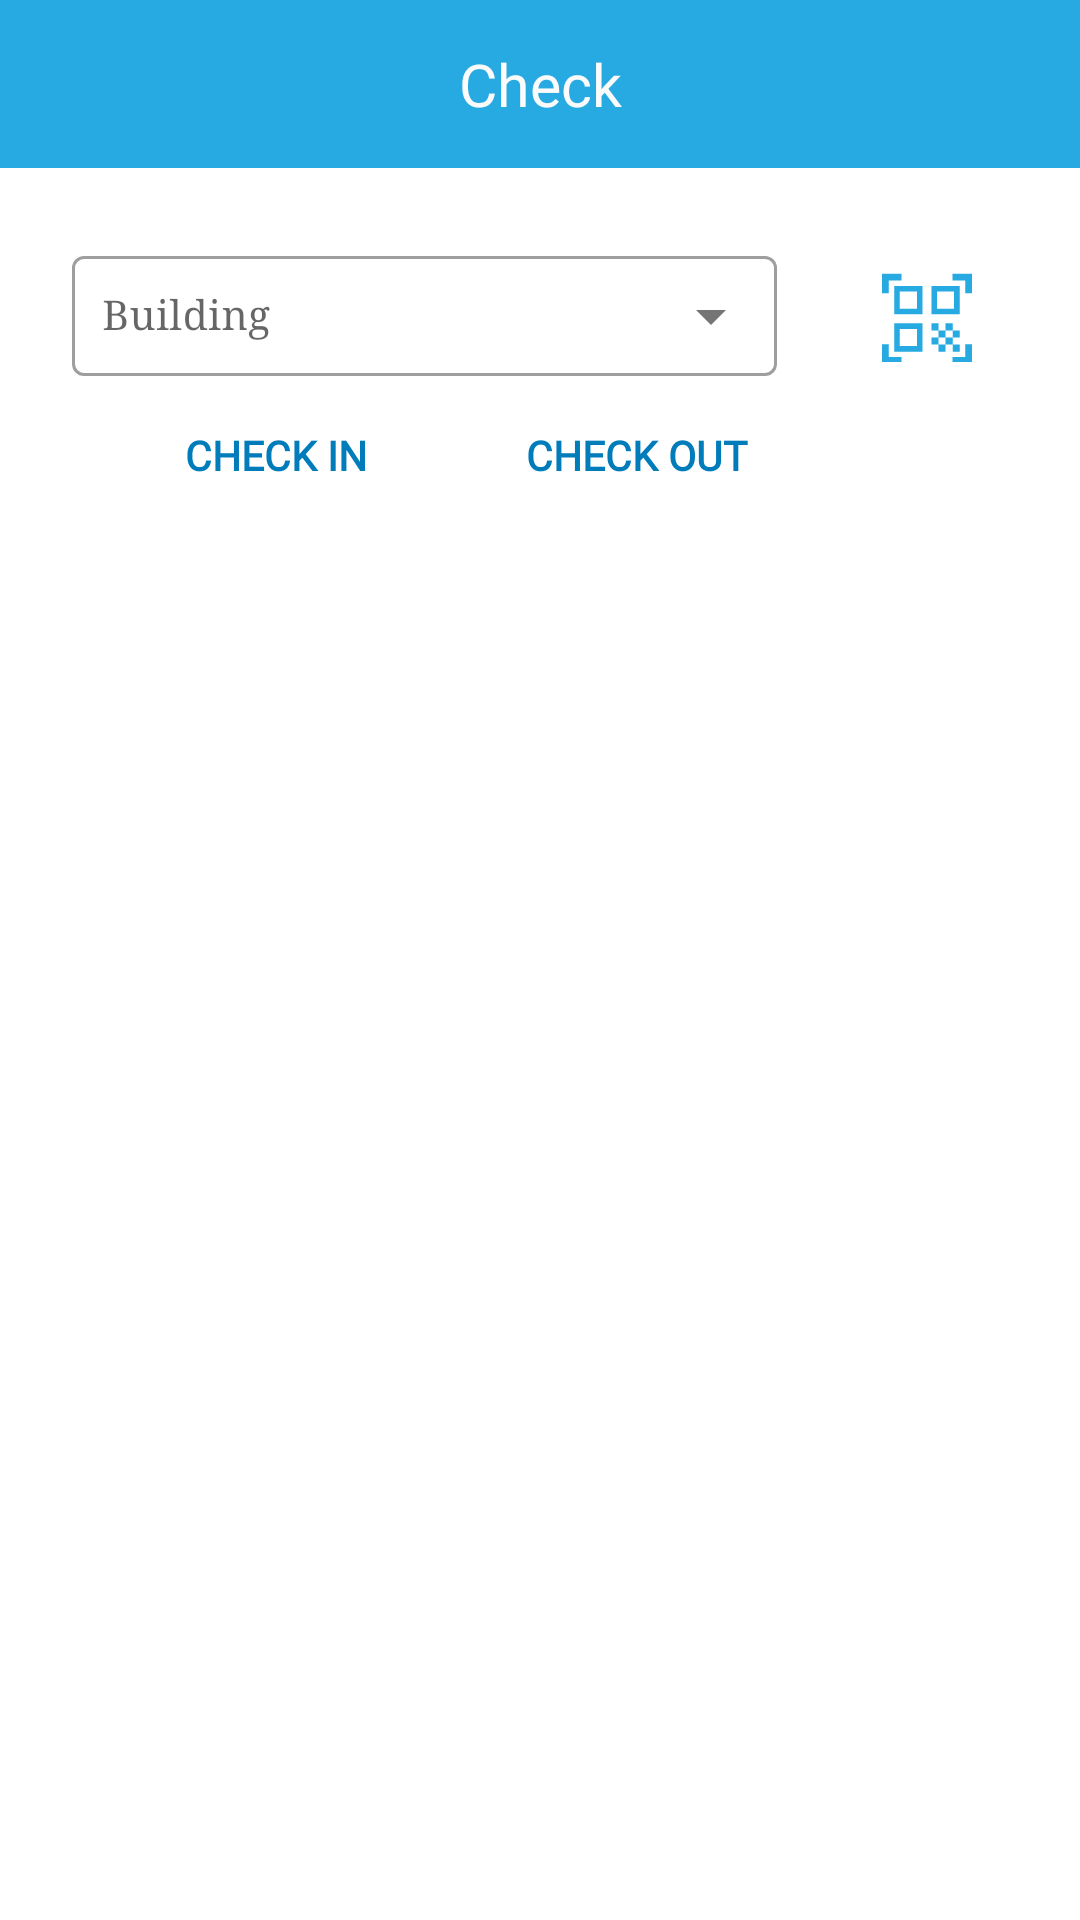

Named icons in this screenshot (1080x1920) and their centers, (x=x, y=y):
scanblue: (x=927, y=317)
